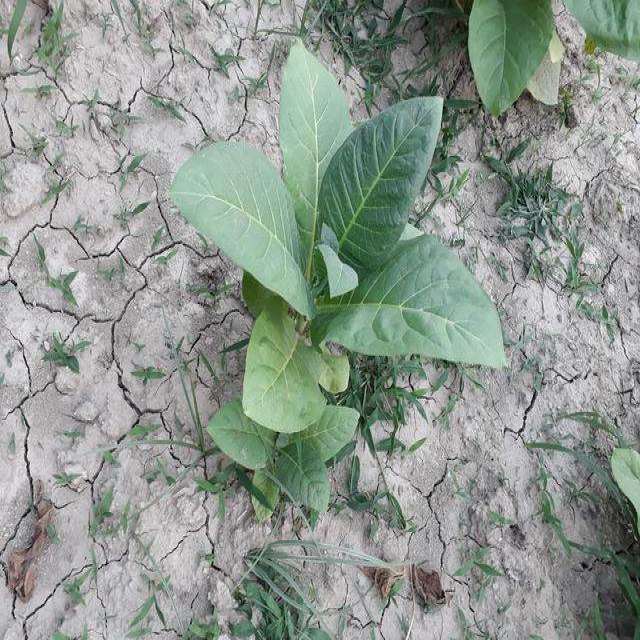crop: (172, 38, 511, 514), (474, 0, 542, 111)
